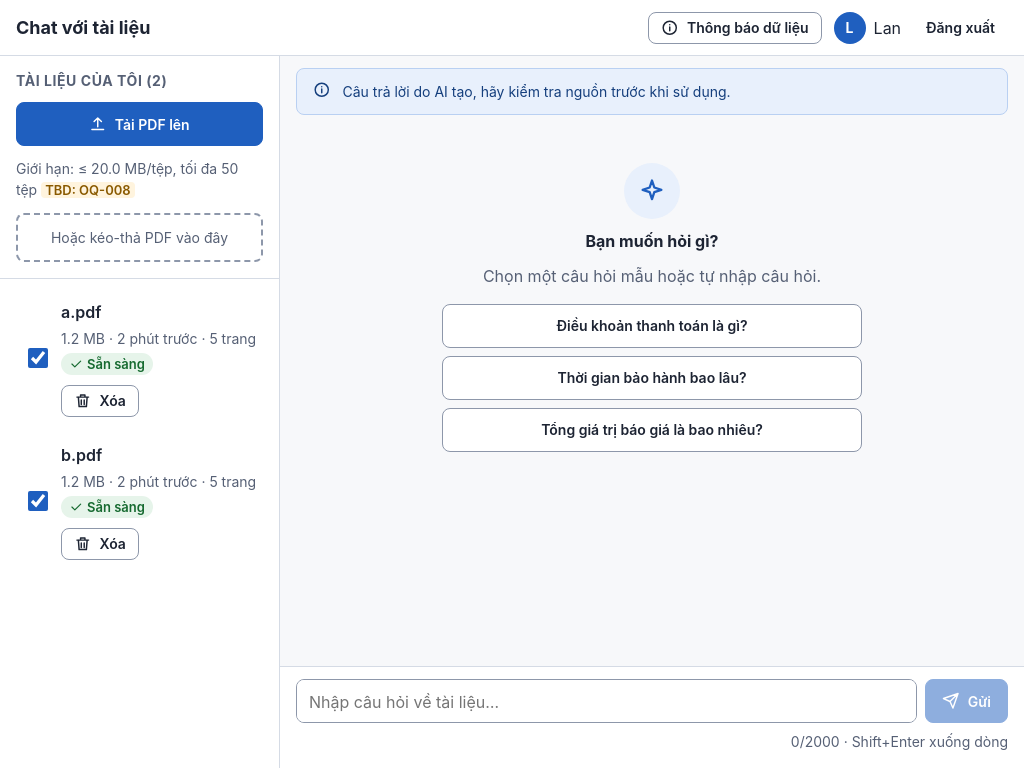
it: Workspace — hỏi đáp và nguồn dẫn › chỉ gửi các tài liệu đang được chọn; bỏ chọn hết ⇒ khóa ô chat
This screenshot has width=1024, height=768.
Click the checkbox named "Dùng a.pdf để hỏi đáp" at [38, 358], box [28, 348, 48, 368]
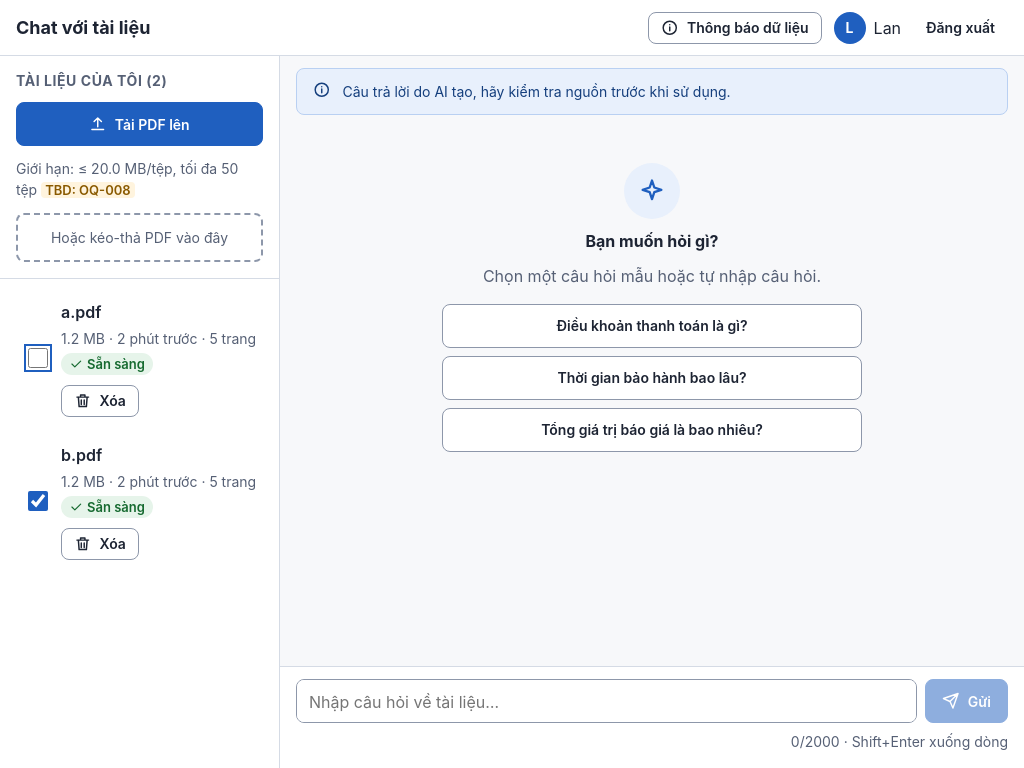
Type "q" into the text box named "Câu hỏi của bạn" at [607, 701], box [296, 679, 917, 723]
Then press Enter
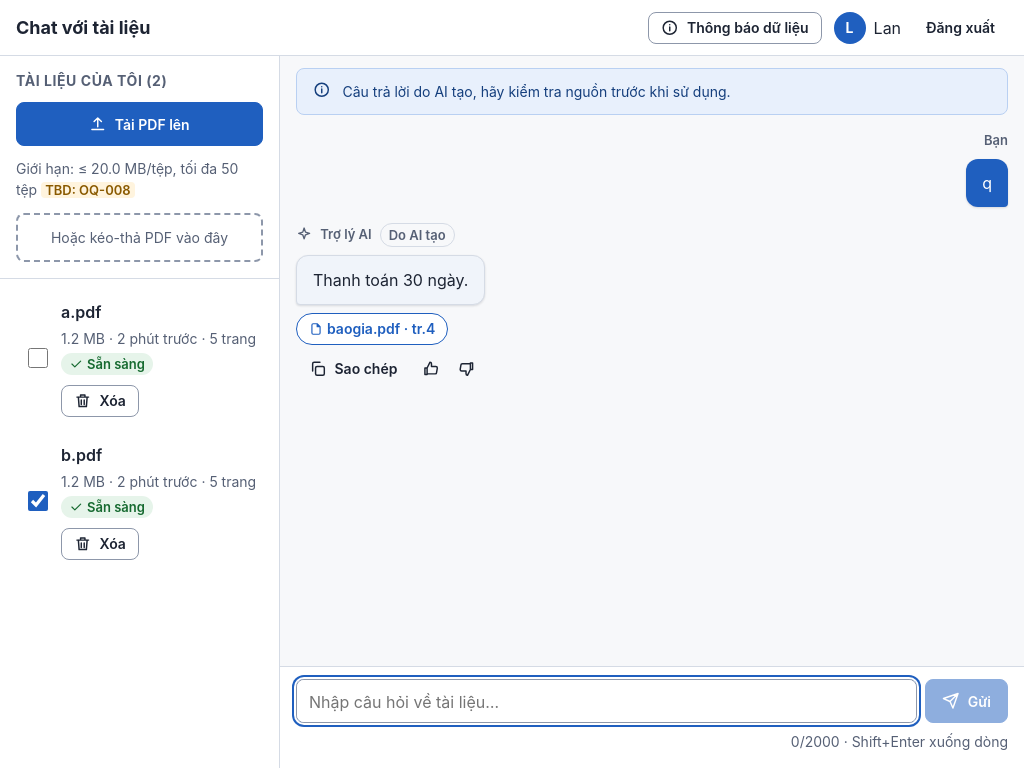
Click the checkbox named "Dùng b.pdf để hỏi đáp" at [38, 501], box [28, 491, 48, 511]
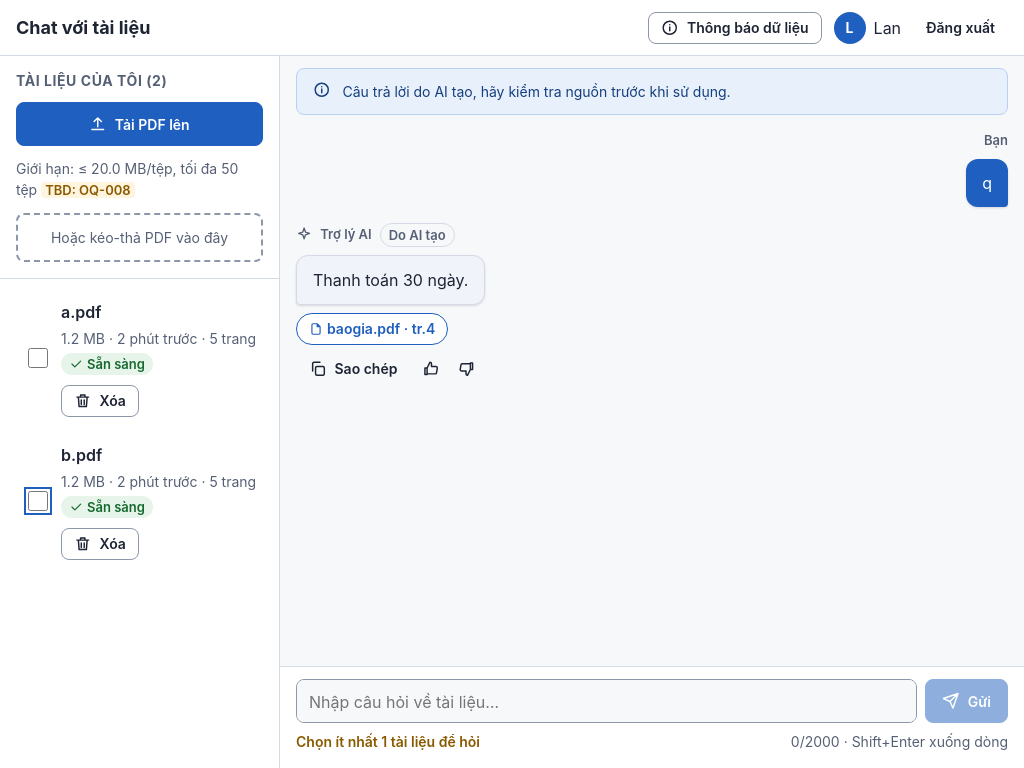
Expected: the text box named "Câu hỏi của bạn" is disabled, [296, 679, 917, 723]
Result: the text "Chọn ít nhất 1 tài liệu để hỏi" is shown at [296, 731, 480, 752]
